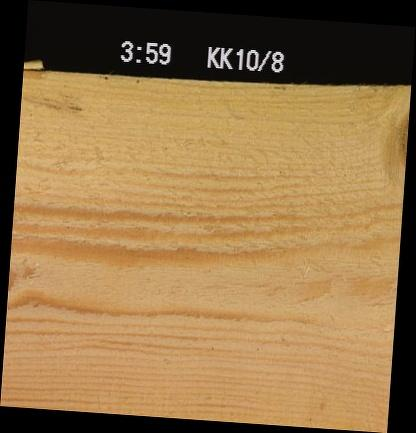sound_knot: (381, 93, 406, 180)
wave: (22, 68, 51, 83)
